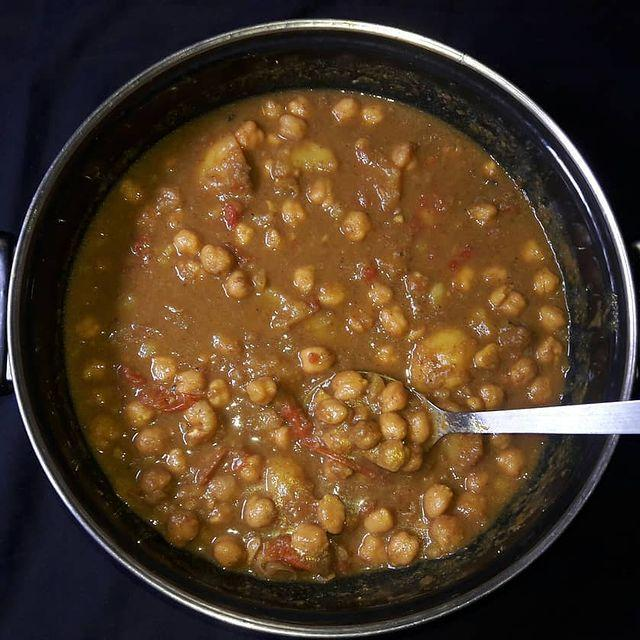Chole: (130, 344, 440, 586)
